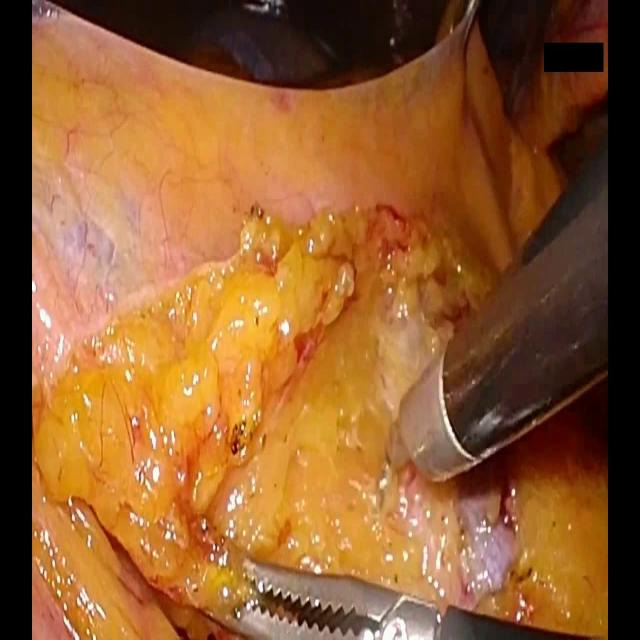surgical-area: (32, 0, 609, 639)
surgical-tool: (394, 180, 609, 484), (203, 556, 600, 639)
